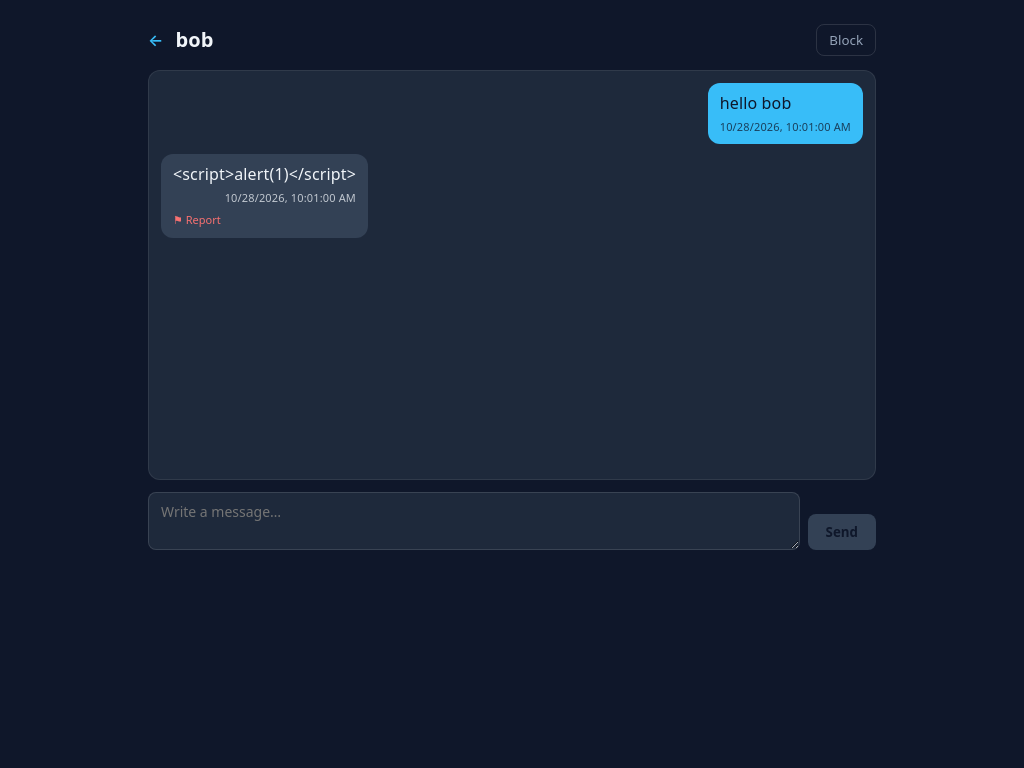
MessageThreadPage (chat) › surfaces duplicate-report 409 as a friendly notice
Click the button with test id "msg-report-btn-11" at (197, 220), box x1=173 y1=212 x2=221 y2=227
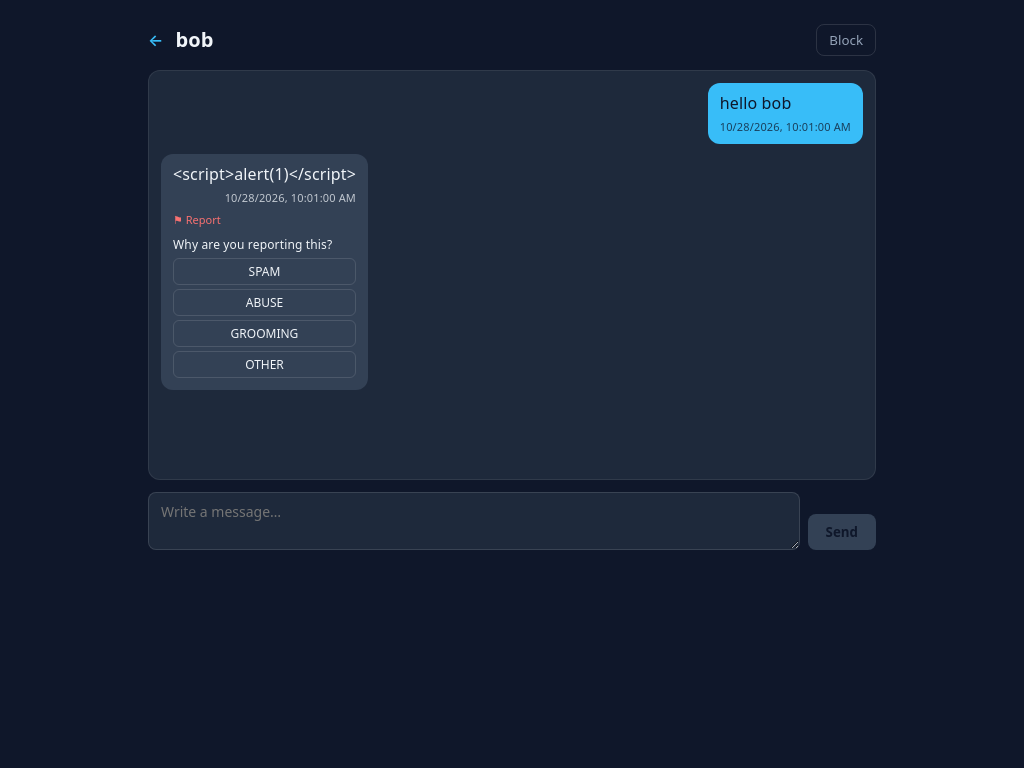
Click the button with test id "msg-report-reason-ABUSE" at (264, 302), box x1=173 y1=289 x2=356 y2=316
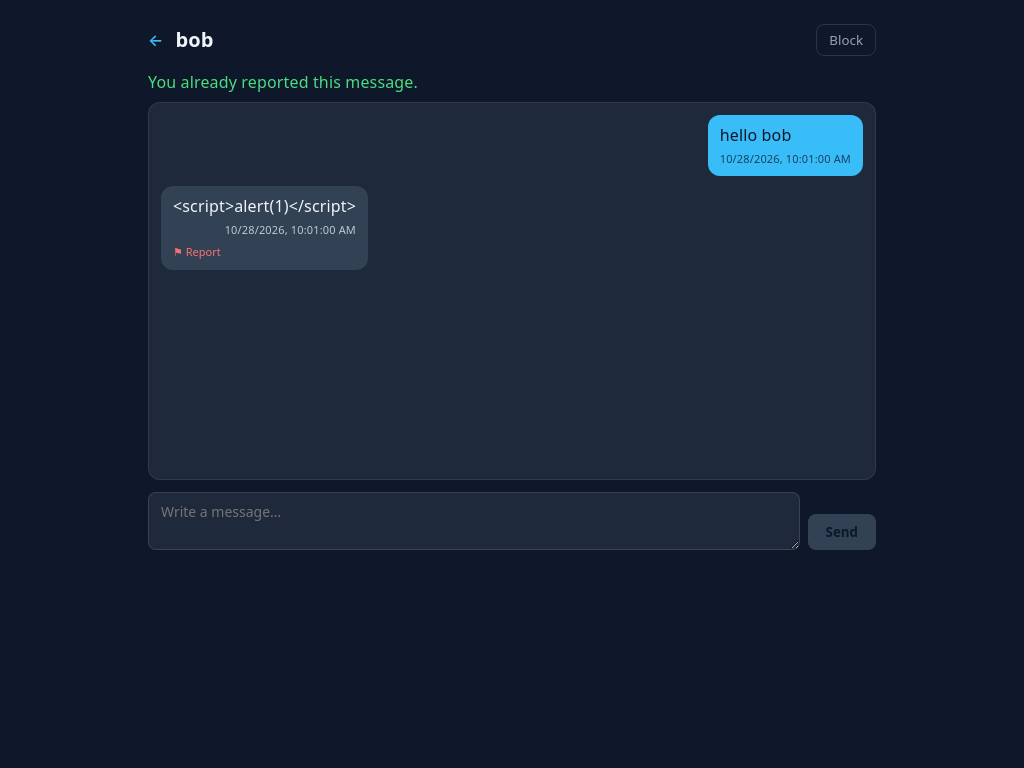
Result: the message with test id "msg-notice" shows "already reported" at x1=148 y1=71 x2=418 y2=93
